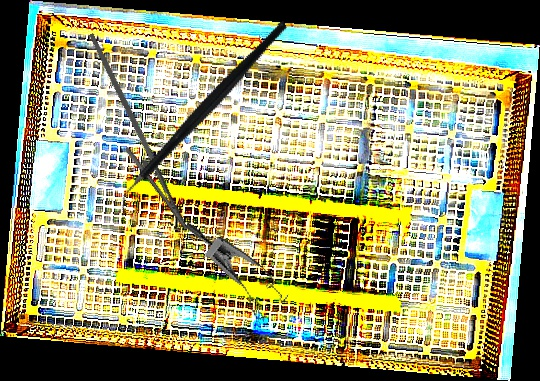Chopper: (76, 20, 330, 218)
Needle Holder: (53, 32, 211, 240)
Speculum: (163, 221, 299, 327)
